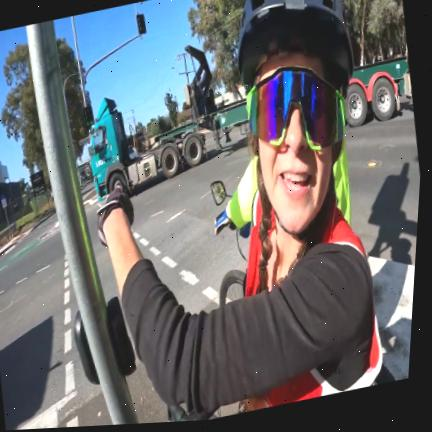Green_Bike_Lane: (0, 229, 59, 271)
